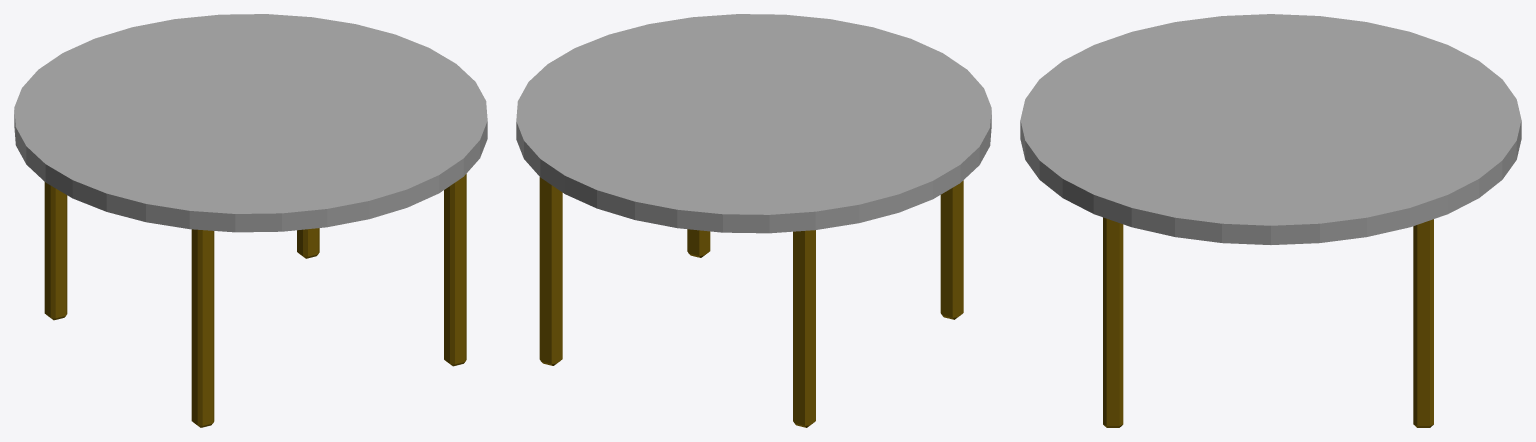
The model's file is TABLE.001_Material.046.glb.
The picture shows the model from 3 angles, left to right: view 1: azimuth 30°, elevation 25°; view 2: azimuth 150°, elevation 25°; view 3: azimuth 270°, elevation 25°; orthographic projection. The views are drawn at different scales.
Visible parts, largest first — view 1: TABLE.001_Material.046_0; view 2: TABLE.001_Material.046_0; view 3: TABLE.001_Material.046_0.
Part boxes in pixels (x1=…): TABLE.001_Material.046_0: x1=14, y1=14, x2=487, y2=427; TABLE.001_Material.046_0: x1=516, y1=14, x2=991, y2=427; TABLE.001_Material.046_0: x1=1020, y1=14, x2=1521, y2=427.
Bounding box in the file's own units: 0.3439 × 0.1807 × 0.3439.
Materials: 1 (1 with a texture image).
